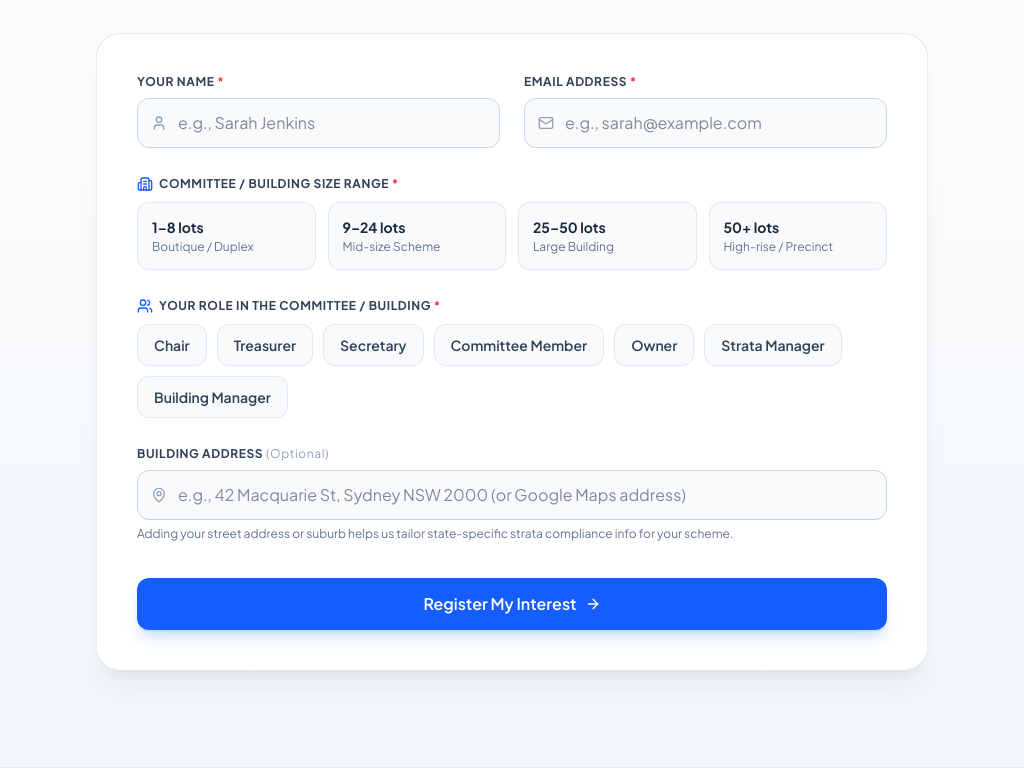
Test: InterestFormSection Component › validates required fields in order before submitting
The image size is (1024, 768).
(page scrolled)
// Missing name
Click the button "Register My Interest" at (512, 604), box [137,578,887,630]
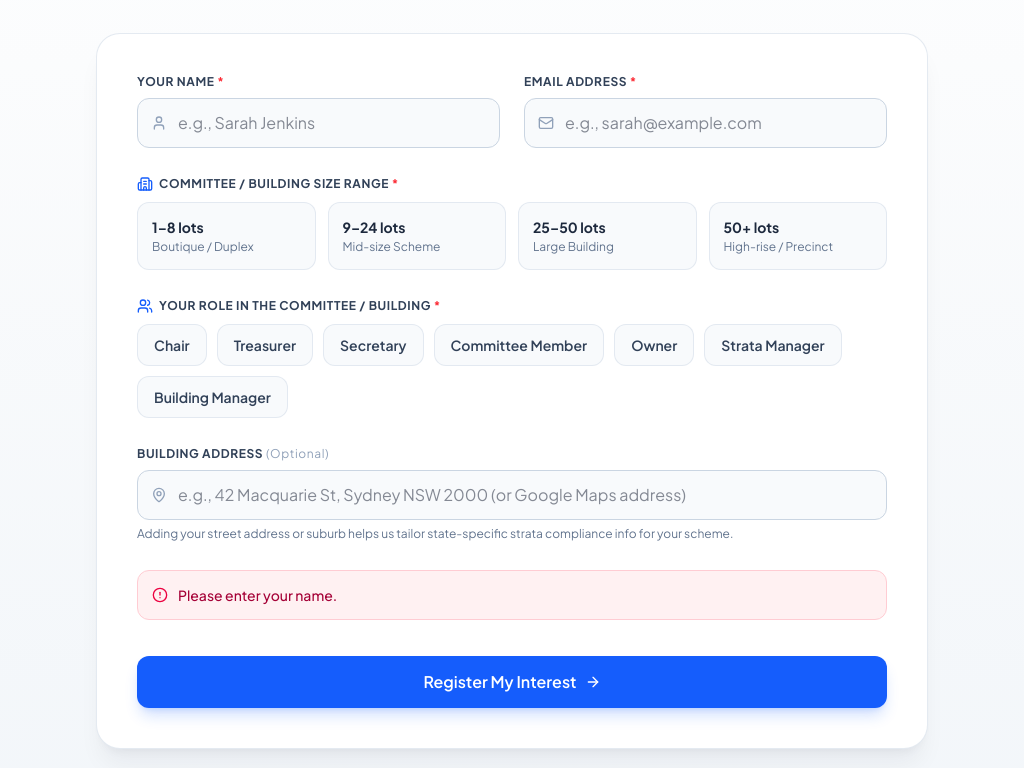
Now the message reads "Please enter your name.", box [178,586,337,604]
// Missing/invalid email
Type "Alex Taylor" into the field labelled "Your Name *" at (318, 123), box [137,98,500,148]
Click the button "Register My Interest" at (512, 682), box [137,656,887,708]
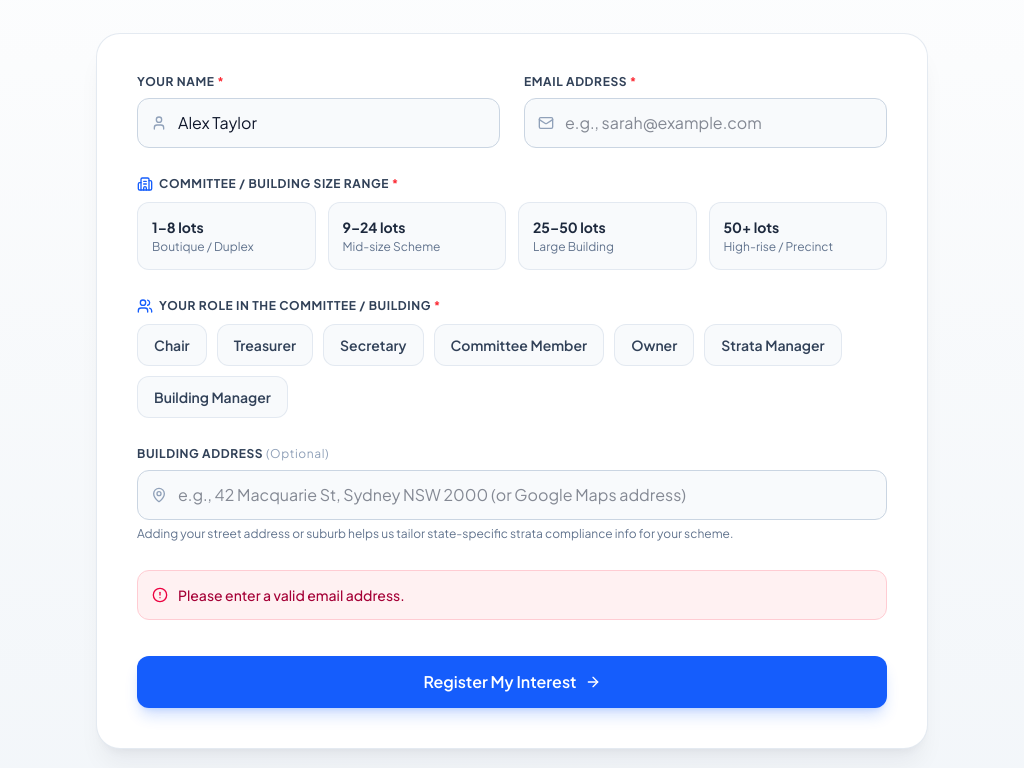
Now the message reads "Please enter a valid email address.", box [178,586,405,604]
// Missing size range
Type "alex@example.com" into the field labelled "Email Address *" at (706, 123), box [524,98,887,148]
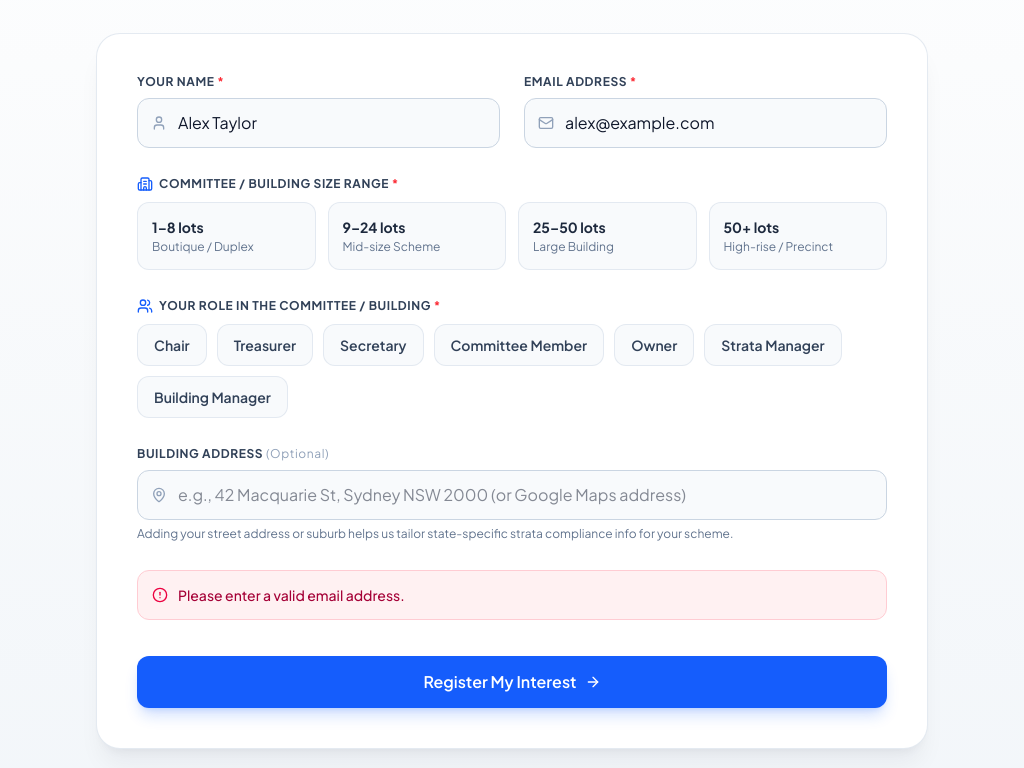
Click the button "Register My Interest" at (512, 682), box [137,656,887,708]
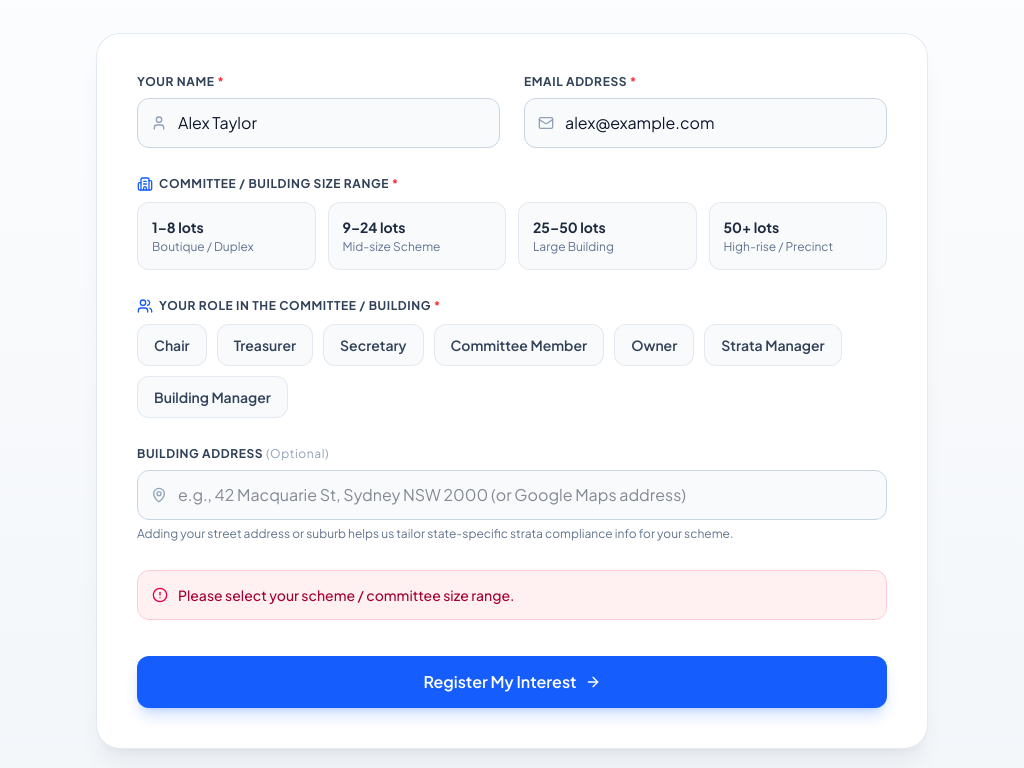
Now the message reads "Please select your scheme / committee size range.", box [178,586,514,604]
// Missing role
Click the radio button labelled "9–24 lots Mid-size Scheme" at (417, 236), box [328,202,506,270]
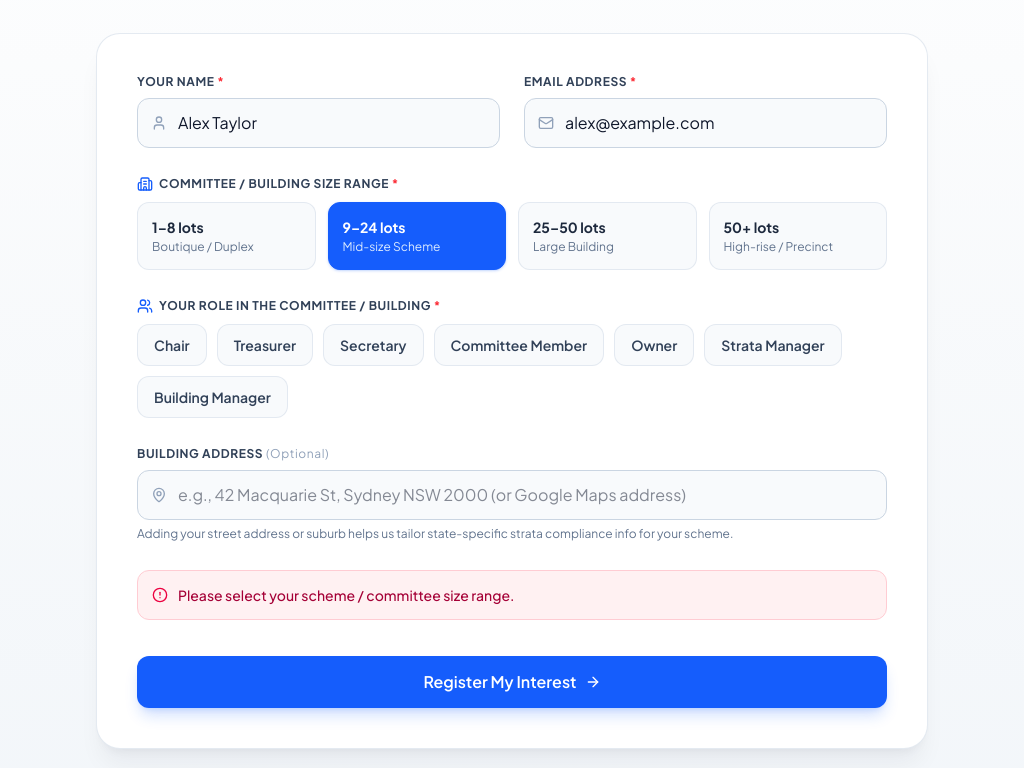
Click the button "Register My Interest" at (512, 682), box [137,656,887,708]
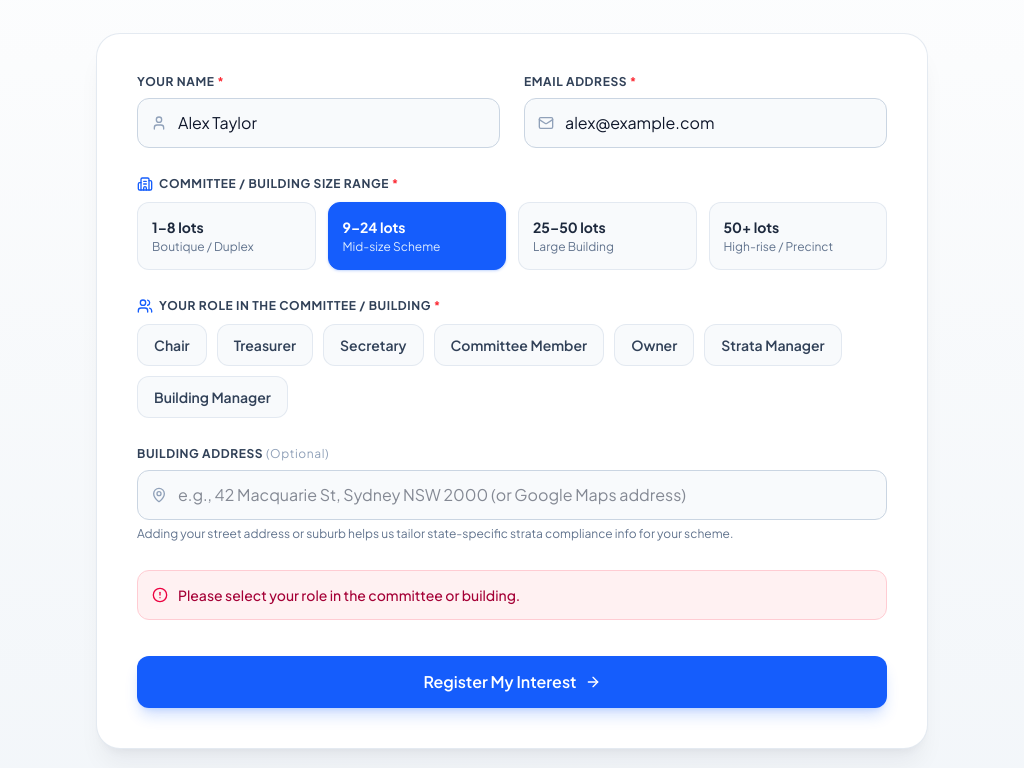
Now the message reads "Please select your role in the committee or building.", box [178,586,520,604]
